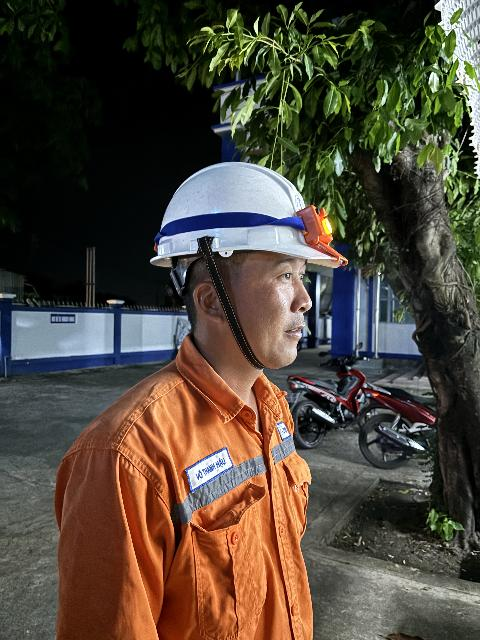helmet: (132, 143, 364, 287)
